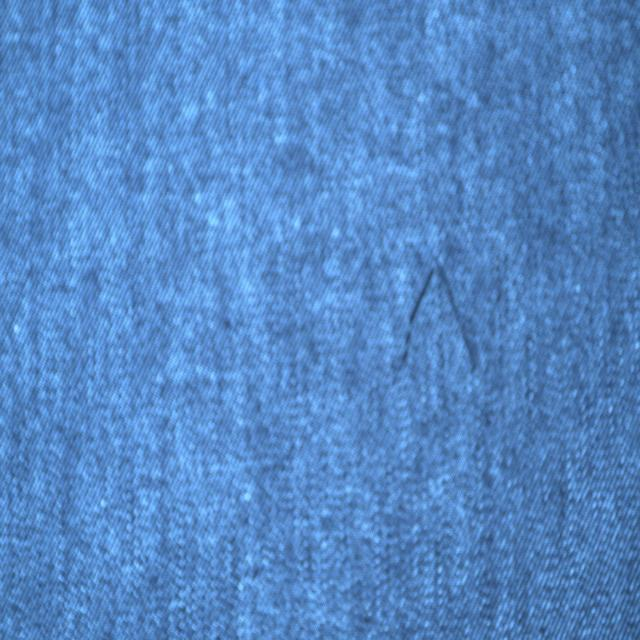defect: (394, 252, 490, 380)
